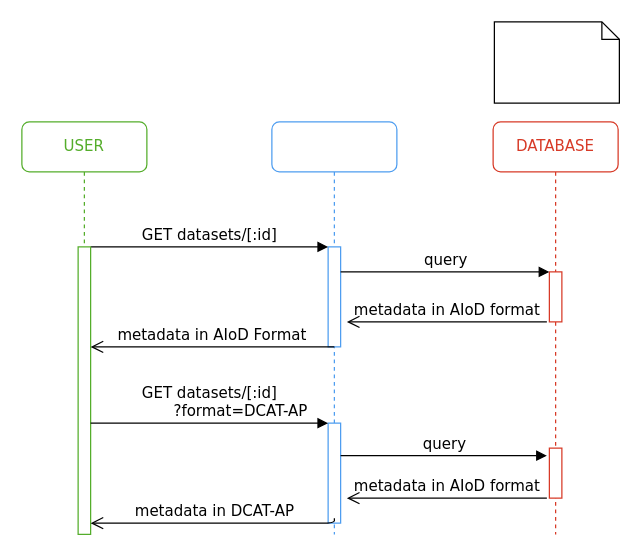
This 641x558 diagram has some shape labels left out. The shapes that lost their labels are listed below. From the top down, each one's centre as x and y in pixels, then its label:
At pixel 556 62: "Database running on same Node as the REST API".
At pixel 334 327: "REST API".
